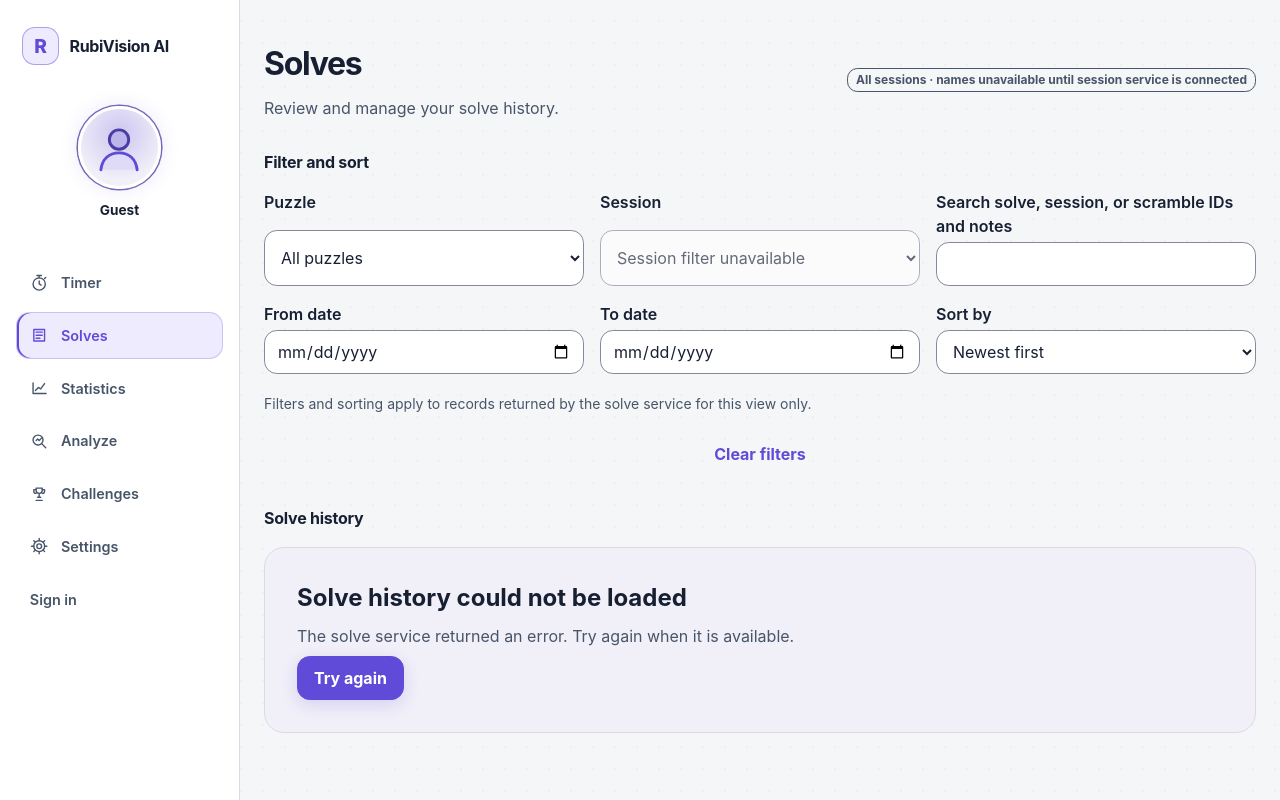
Test case: Solves page shell › shows a retryable error and retries through the solve service
Expected: the text "The solve service returned an error. Try again when it is available." is shown, [297, 624, 794, 648]
Click the button "Try again": point(350, 678) [297, 656, 404, 700]
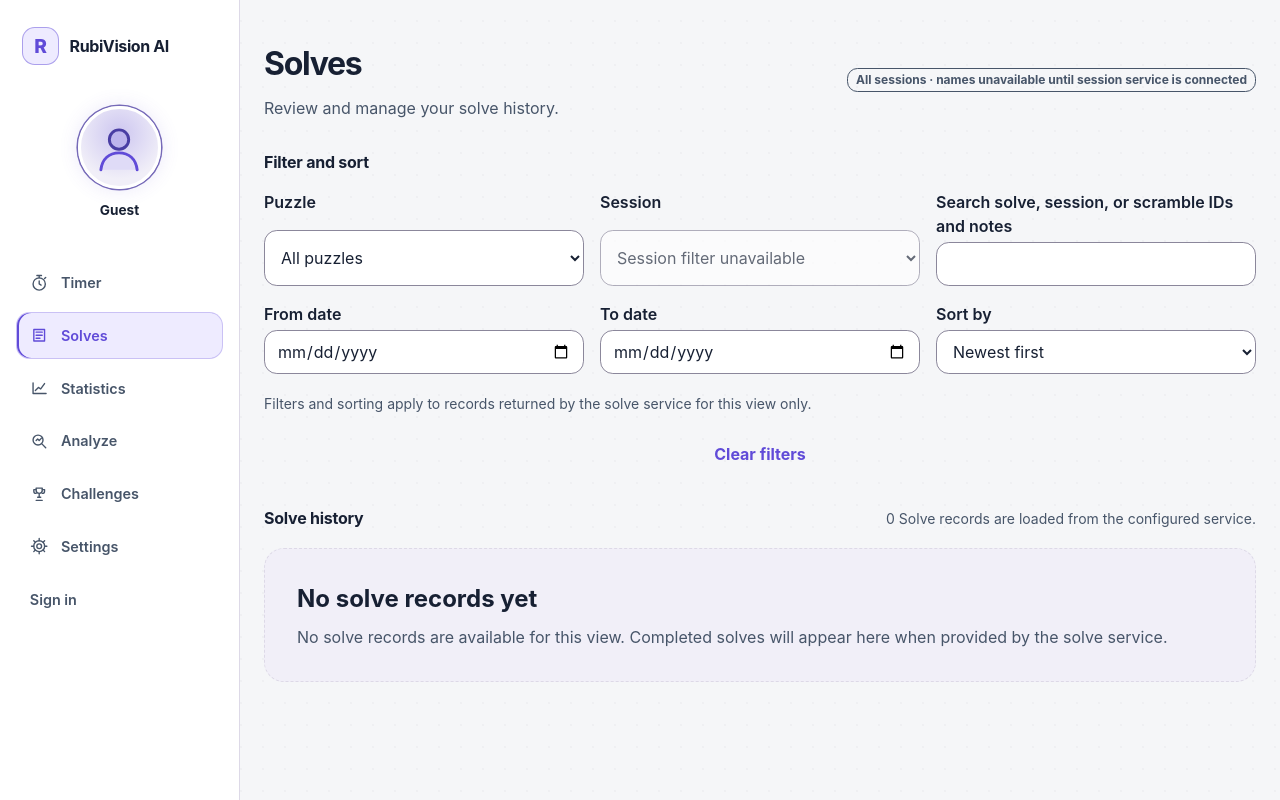
Expected: the text "No solve records are available" is shown, [297, 627, 1168, 647]
